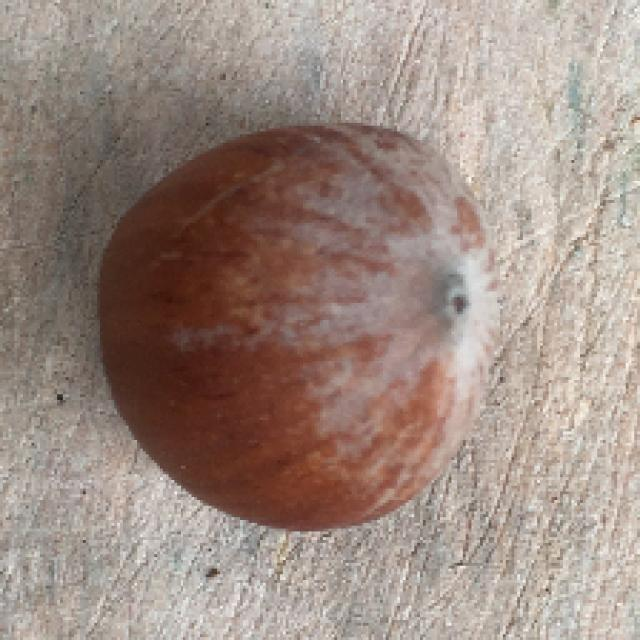QualityHazelnut: (96, 119, 502, 536)
